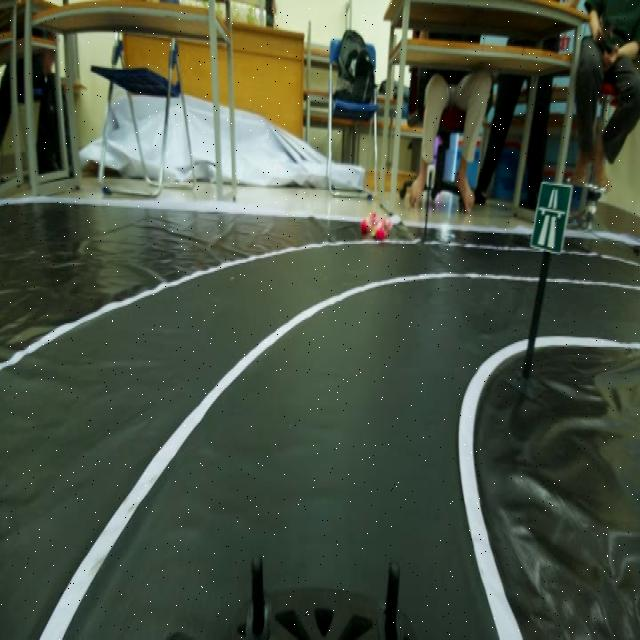highway_entry: (536, 176, 569, 255)
